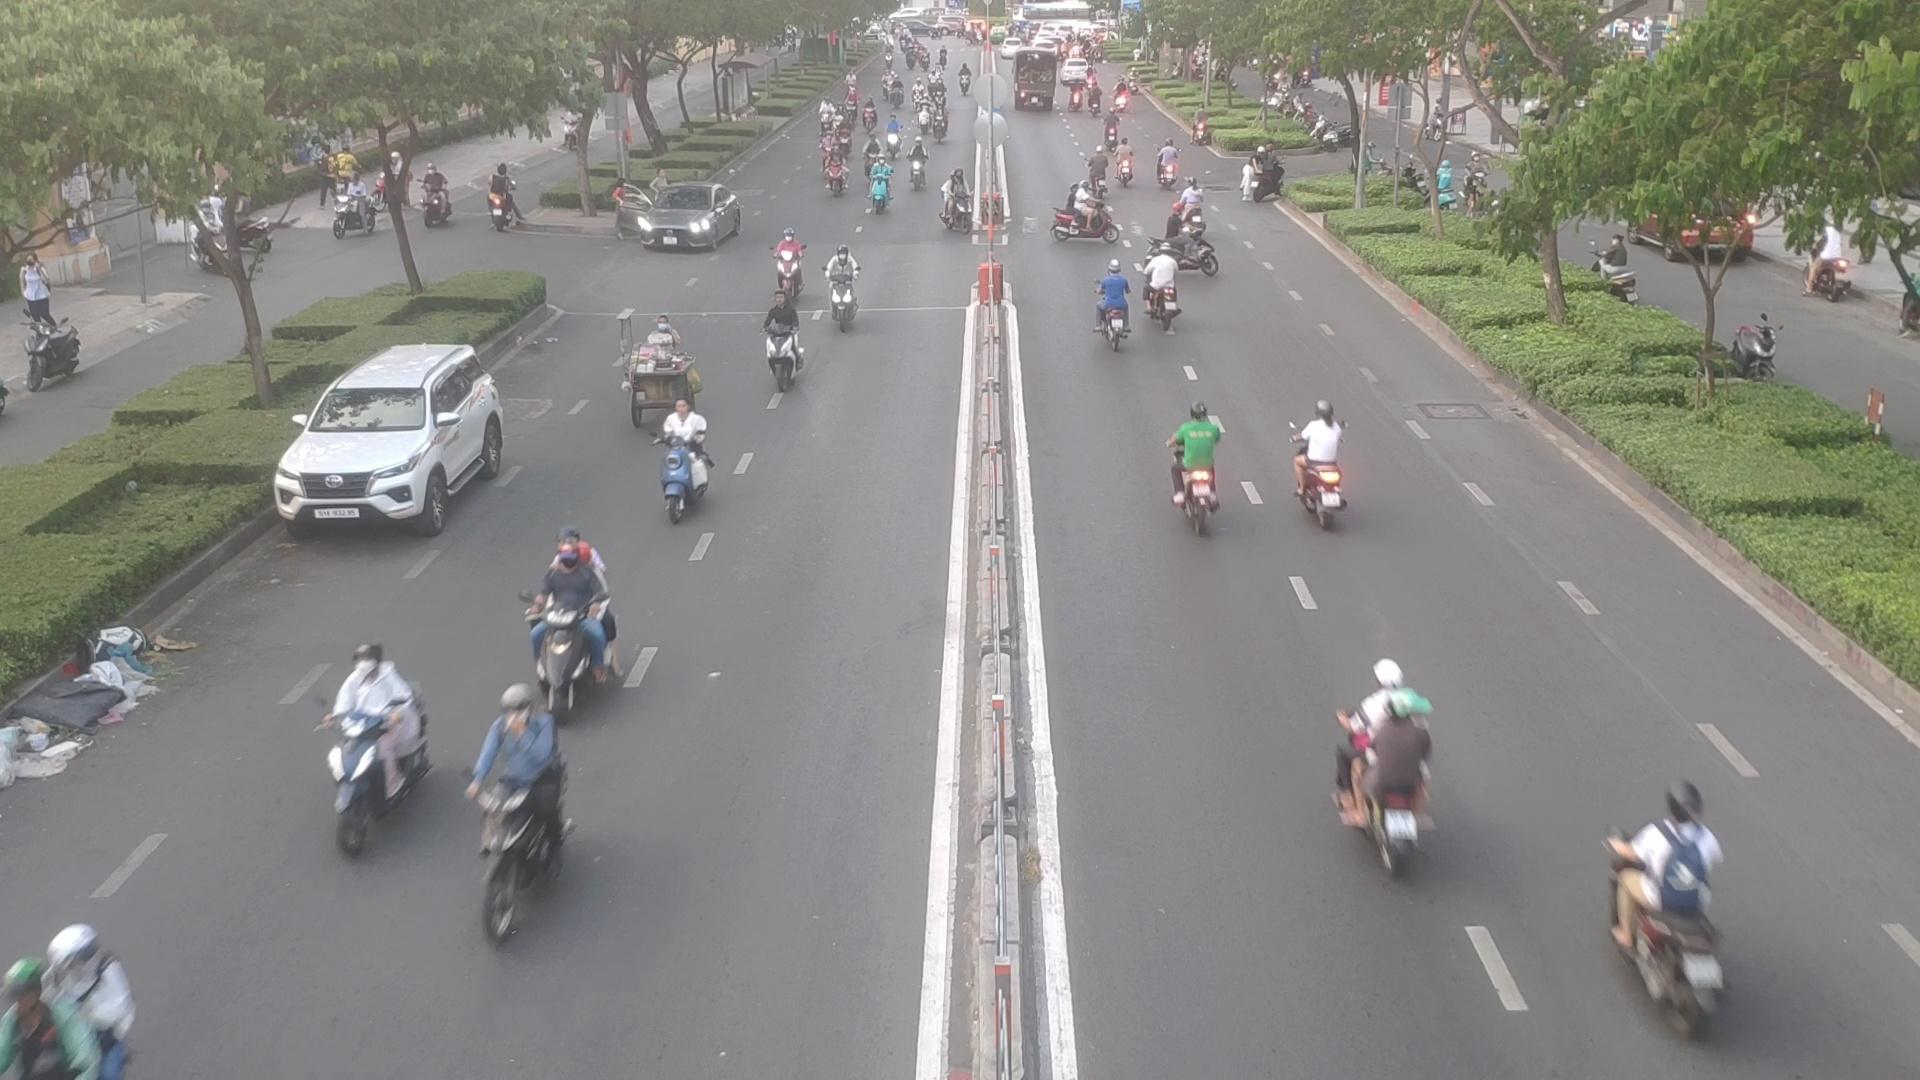car: (278, 345, 520, 537), (621, 187, 754, 256)
motorbike: (1604, 796, 1738, 1031), (462, 705, 576, 940), (1321, 661, 1443, 862), (310, 647, 430, 851), (0, 927, 138, 1080), (521, 542, 622, 702), (1153, 400, 1224, 531), (651, 404, 717, 517), (1292, 406, 1352, 526), (757, 294, 822, 388), (1087, 266, 1137, 349), (823, 251, 870, 338), (1054, 189, 1121, 245), (659, 404, 713, 471), (1141, 252, 1184, 330), (1168, 220, 1218, 278), (1105, 140, 1135, 183)
